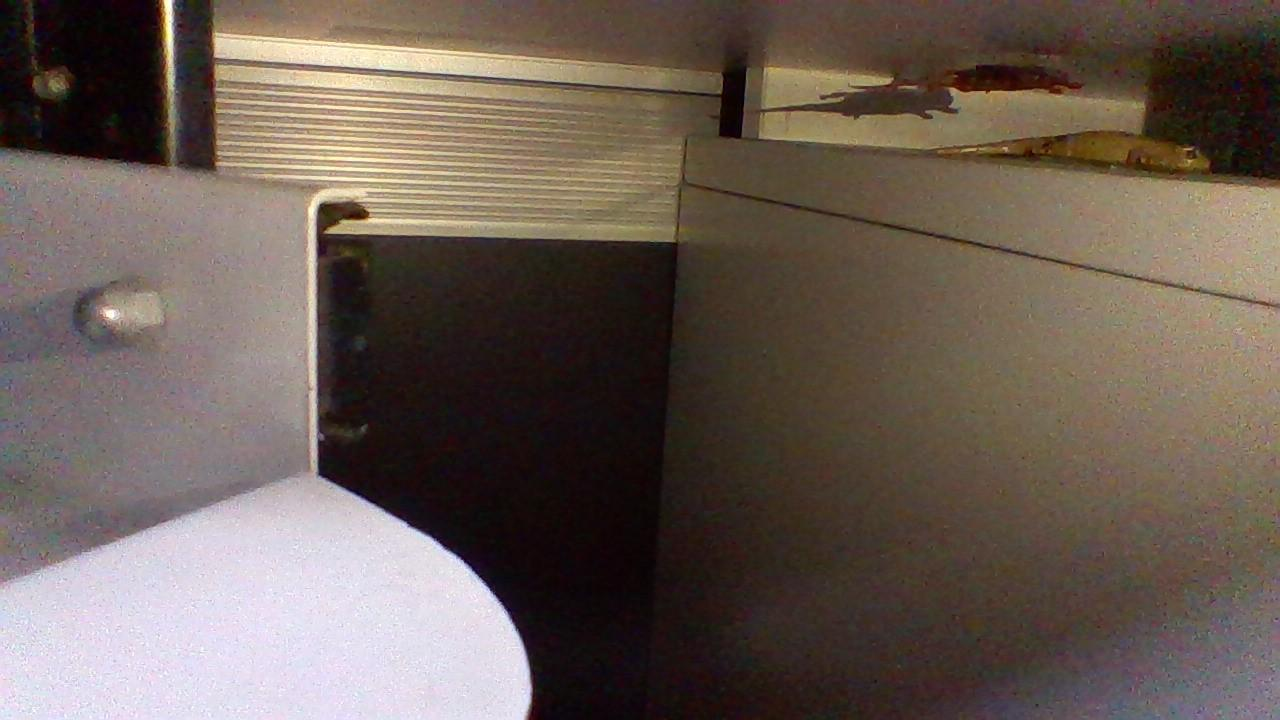cockroach: (895, 35, 1089, 100)
lizard: (937, 125, 1219, 180)
